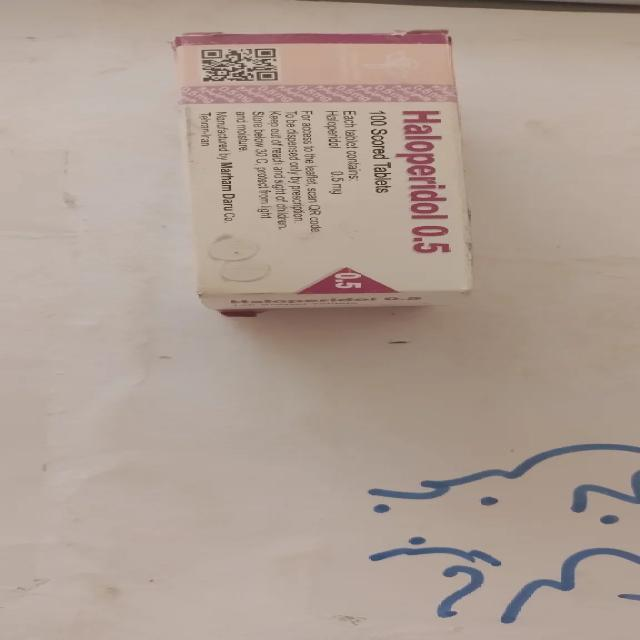drug-name: (396, 103, 460, 259)
